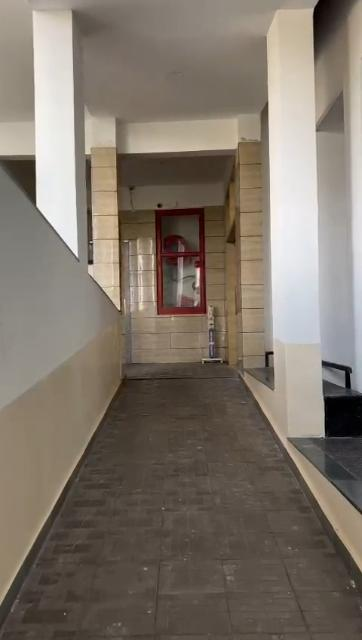floor: (0, 364, 362, 636)
wall: (1, 7, 124, 603), (264, 7, 326, 433), (227, 136, 261, 370), (124, 212, 154, 360), (157, 316, 203, 360), (207, 206, 225, 302)
